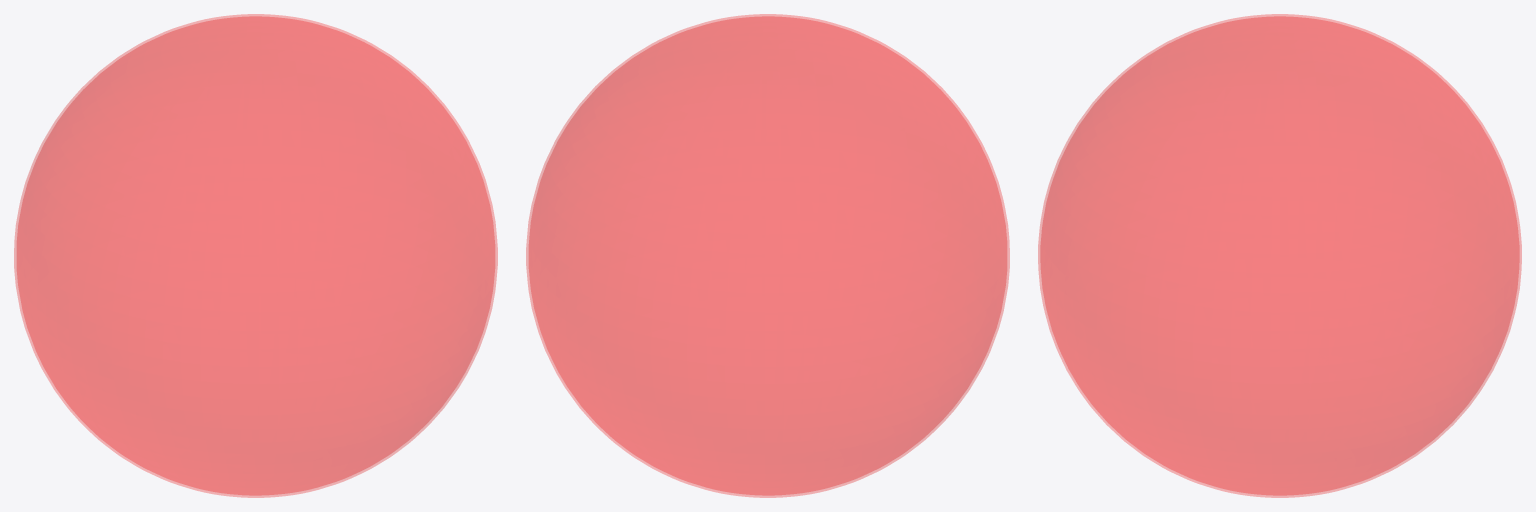
Rendered from sphere-transparent.gltf.
The picture shows the model from 3 angles, left to right: view 1: azimuth 30°, elevation 25°; view 2: azimuth 150°, elevation 25°; view 3: azimuth 270°, elevation 25°; orthographic projection.
Visible parts, largest first — view 1: entity_2; view 2: entity_2; view 3: entity_2.
Boxes of the visible parts, x1,y1,x2,y2 form: entity_2: [14, 14, 497, 497]; entity_2: [526, 14, 1009, 497]; entity_2: [1038, 14, 1521, 497].
Size of the model in its own units: 2018 by 2020 by 2018.
